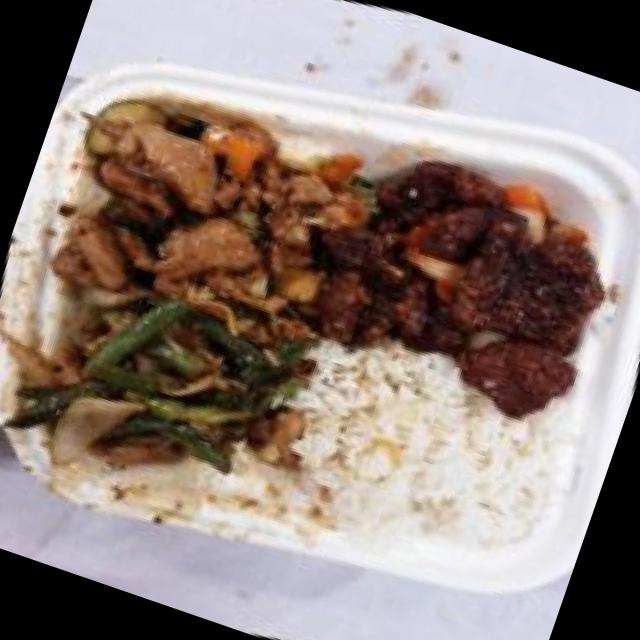Beijing Beef: (276, 101, 640, 471)
Kung Pao Chicken: (19, 39, 388, 373)
String Bean Chicken Breast: (0, 230, 335, 536)
White Steamed Rice: (250, 311, 582, 598)
